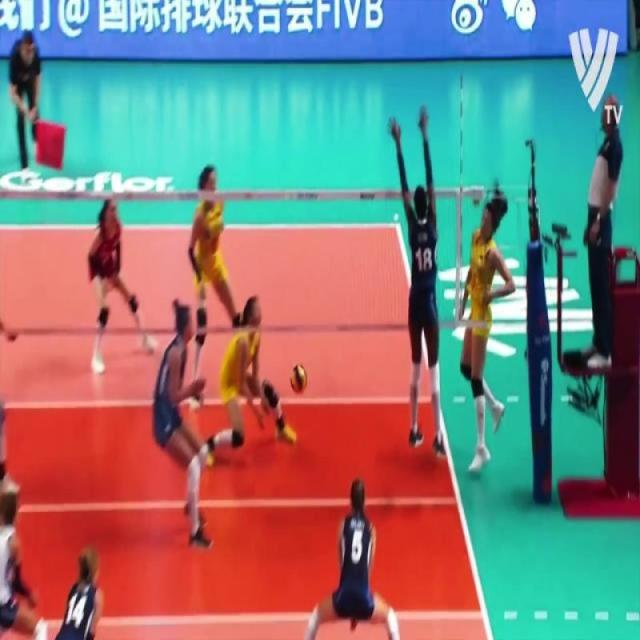volleyball: (290, 362, 308, 394)
